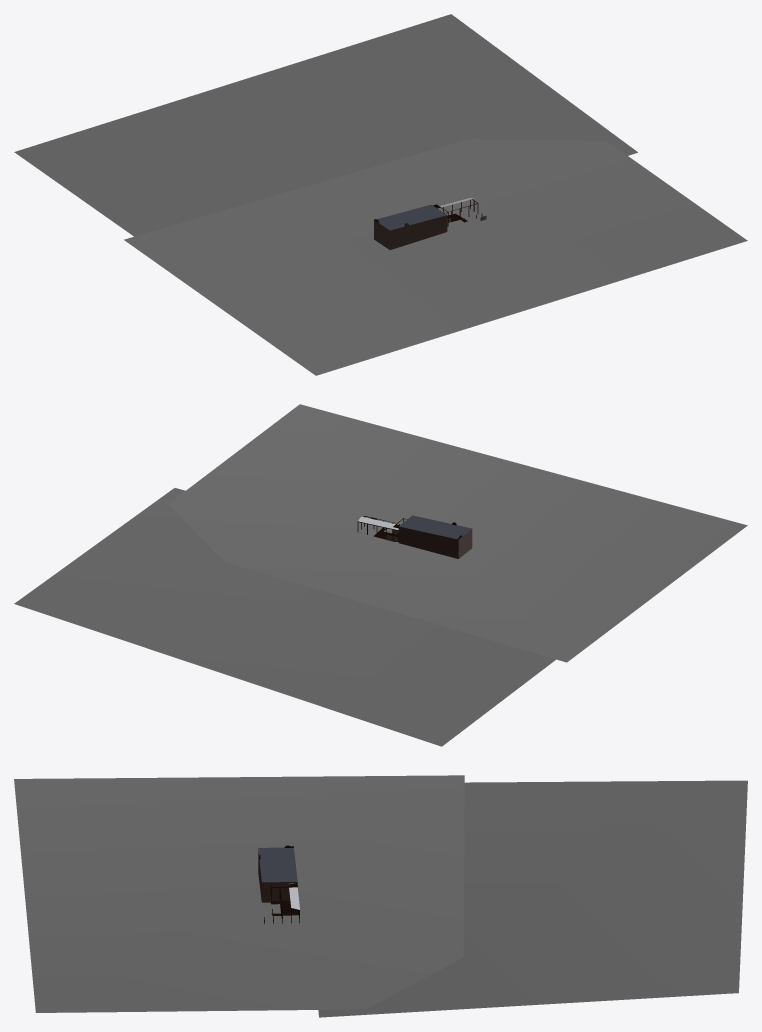
File: hair-of-the-dog-pub.glb
The picture shows the model from 3 angles, top to bottom: view 1: azimuth 30°, elevation 25°; view 2: azimuth 150°, elevation 25°; view 3: azimuth 270°, elevation 25°; orthographic projection. The views are drawn at different scales.
Parts seen in each view (by area): view 1: LOD0; view 2: LOD0; view 3: LOD0.
Boxes of the visible parts, x1,y1,x2,y2 form: LOD0: (14, 14, 747, 375); LOD0: (14, 404, 747, 746); LOD0: (14, 775, 747, 1017).
Size of what is drawn, in the model's own units: 150 by 11.1 by 175.
3 materials, 3 textured.
